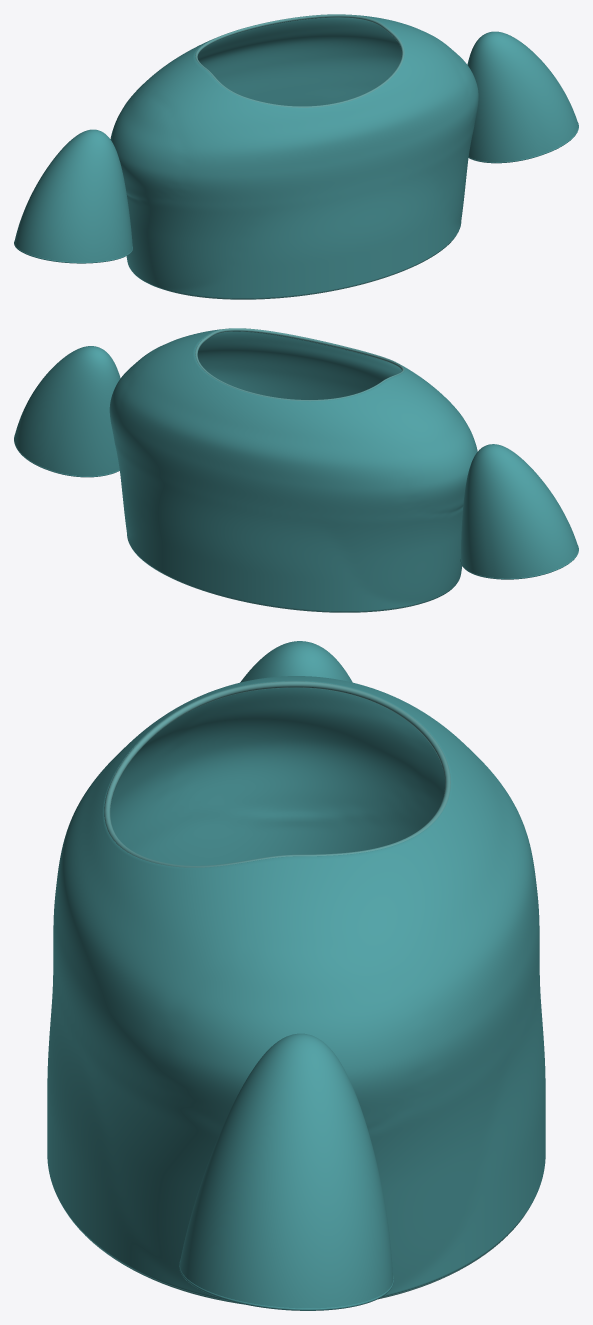
File: Masculine-tshirt-top.glb
3 views of the same model, one above another, from view 1: azimuth 30°, elevation 25°; view 2: azimuth 150°, elevation 25°; view 3: azimuth 270°, elevation 25° (orthographic). The views are drawn at different scales.
Visible parts, largest first — view 1: Clothing / tshirt, Sleeve / floating fabric -1, Sleeve / floating fabric 1, Neckline / fitted crew export, Shirt / seated hem export; view 2: Clothing / tshirt, Sleeve / floating fabric -1, Sleeve / floating fabric 1, Neckline / fitted crew export, Shirt / seated hem export; view 3: Clothing / tshirt, Sleeve / floating fabric 1, Neckline / fitted crew export, Sleeve / floating fabric -1.
Boxes of the visible parts, <box> form: Clothing / tshirt: <box>110,14,478,298</box>; Sleeve / floating fabric -1: <box>14,129,132,262</box>; Sleeve / floating fabric 1: <box>467,31,578,162</box>; Neckline / fitted crew export: <box>195,14,404,107</box>; Shirt / seated hem export: <box>135,239,453,299</box>; Clothing / tshirt: <box>109,329,477,611</box>; Sleeve / floating fabric -1: <box>461,444,578,578</box>; Sleeve / floating fabric 1: <box>14,346,120,476</box>; Neckline / fitted crew export: <box>195,328,404,401</box>; Shirt / seated hem export: <box>137,555,451,612</box>; Clothing / tshirt: <box>47,676,545,1301</box>; Sleeve / floating fabric 1: <box>180,1033,393,1308</box>; Neckline / fitted crew export: <box>104,681,450,867</box>; Sleeve / floating fabric -1: <box>240,641,352,682</box>.
Size of the model in its own units: 1.18 by 0.3978 by 0.4618.
